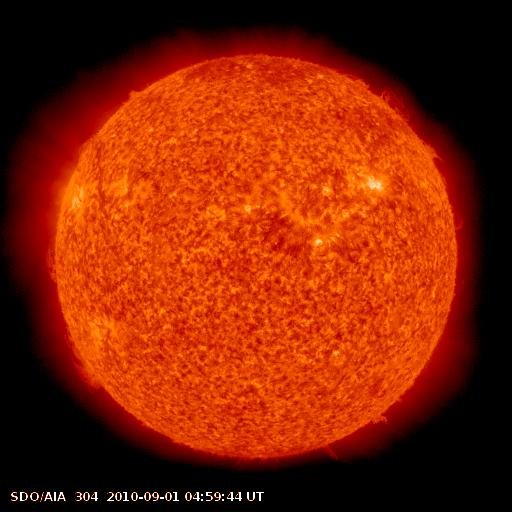prominence: (50, 312, 109, 396), (33, 234, 75, 290), (377, 76, 418, 127), (413, 128, 456, 168), (335, 62, 375, 96), (364, 404, 396, 436)
